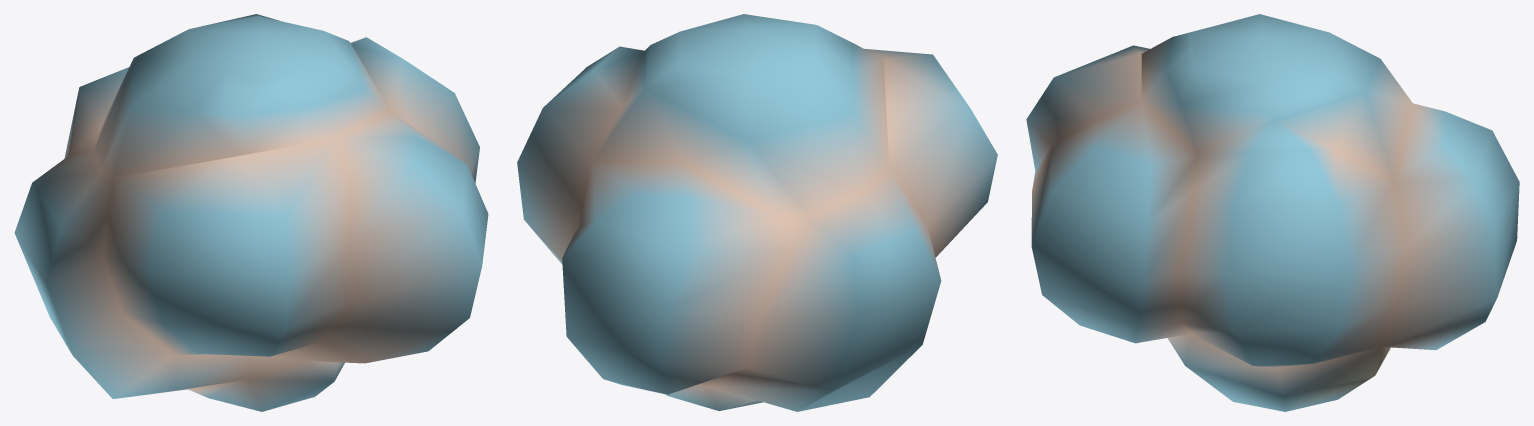
The model's file is DivingVolcanoCloud.glb.
The picture shows the model from 3 angles, left to right: view 1: azimuth 30°, elevation 25°; view 2: azimuth 150°, elevation 25°; view 3: azimuth 270°, elevation 25°; orthographic projection. The views are drawn at different scales.
Visible parts, largest first — view 1: DivingVolcanoCloud; view 2: DivingVolcanoCloud; view 3: DivingVolcanoCloud.
Boxes of the visible parts, box(x1,y1,x2,y2) form: DivingVolcanoCloud: box(14, 14, 488, 411); DivingVolcanoCloud: box(517, 14, 997, 411); DivingVolcanoCloud: box(1026, 14, 1519, 411).
Size of the model in its own units: 0.7524 by 0.6565 by 0.82.
